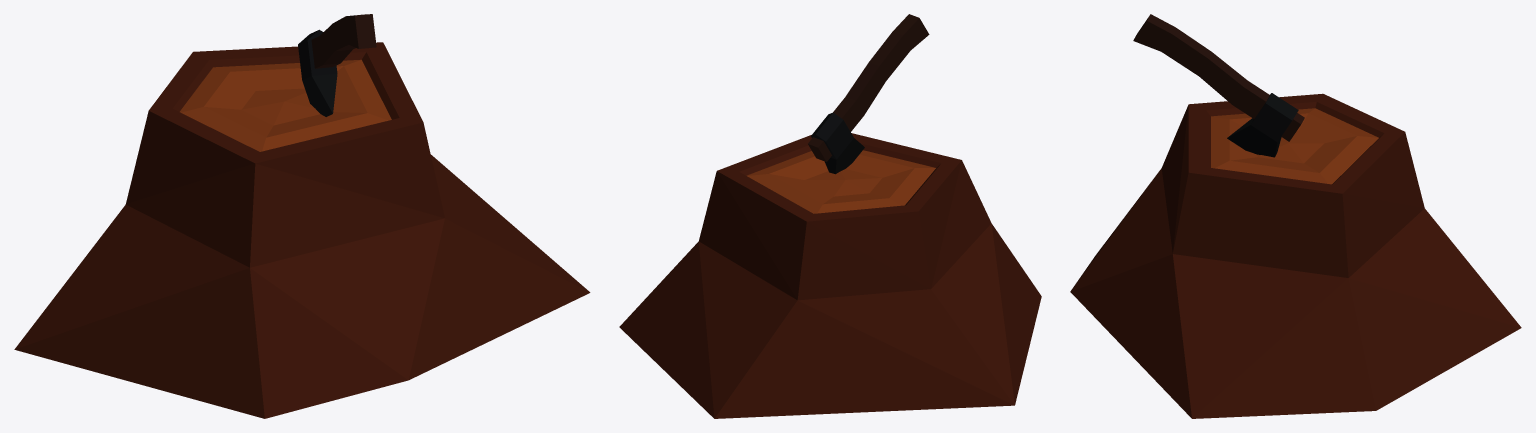
File: TreeStump.fbx.glb
3 views of the same model, side by side, from view 1: azimuth 30°, elevation 25°; view 2: azimuth 150°, elevation 25°; view 3: azimuth 270°, elevation 25° (orthographic). The views are drawn at different scales.
Visible parts, largest first — view 1: TreeStump; view 2: TreeStump; view 3: TreeStump.
Part boxes in pixels (x1,y1,x2,y2): TreeStump: [14, 14, 590, 418]; TreeStump: [619, 14, 1041, 418]; TreeStump: [1070, 14, 1521, 418].
Bounding box in the file's own units: 76.92 × 53.63 × 73.41.
